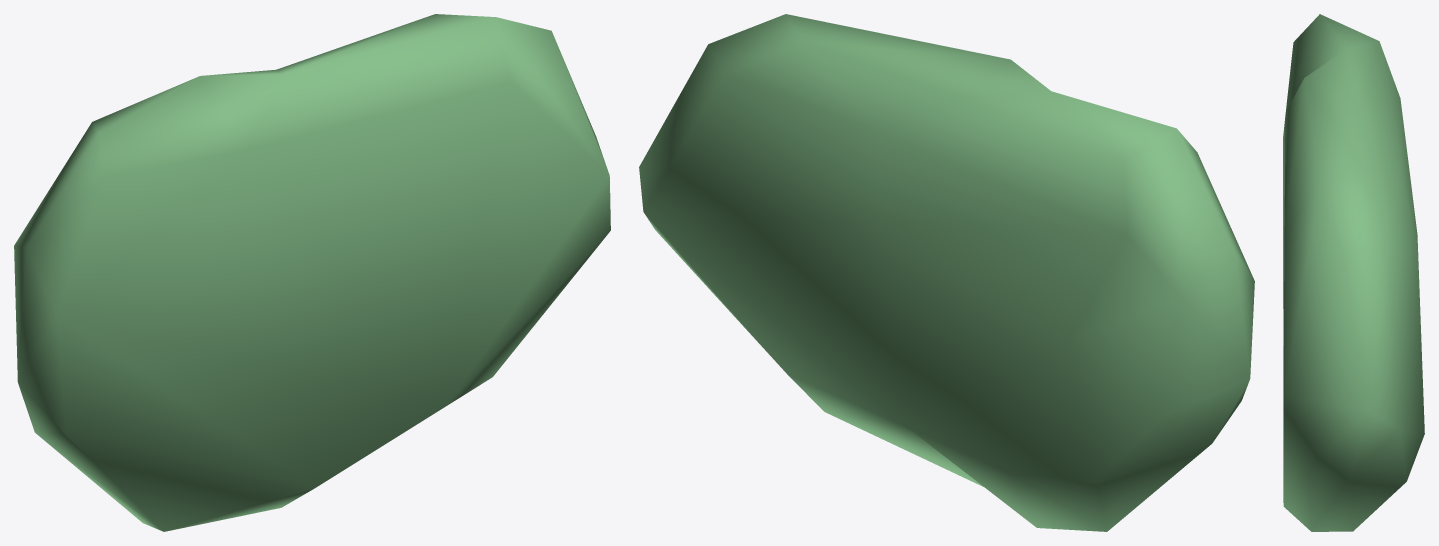
File: rock_001_b.fbx
The picture shows the model from 3 angles, left to right: view 1: azimuth 30°, elevation 25°; view 2: azimuth 150°, elevation 25°; view 3: azimuth 270°, elevation 25°; orthographic projection.
Parts seen in each view (by area): view 1: rock_001_b_LOD0; view 2: rock_001_b_LOD0; view 3: rock_001_b_LOD0.
Part boxes in pixels (bbox=[...]): rock_001_b_LOD0: bbox=[14, 14, 610, 531]; rock_001_b_LOD0: bbox=[639, 14, 1254, 531]; rock_001_b_LOD0: bbox=[1283, 14, 1424, 531].
Bounding box in the file's own units: 120 × 24.95 × 85.63.
